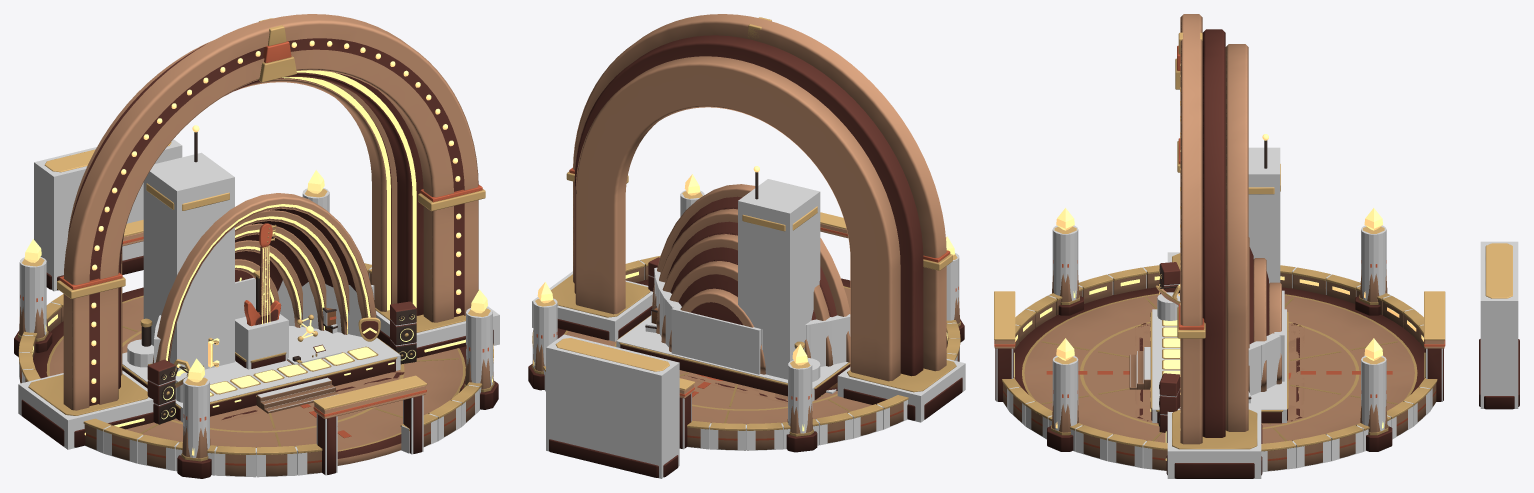
The model's file is landmarks-experience.glb.
The picture shows the model from 3 angles, left to right: view 1: azimuth 30°, elevation 25°; view 2: azimuth 150°, elevation 25°; view 3: azimuth 270°, elevation 25°; orthographic projection. The views are drawn at different scales.
Parts seen in each view (by area): view 1: arc_gate, arena, bass_stage, COL_BOX_tower, COL_BOX_scoreboard, COL_BOX_platform, COL_BOX_foot_0, workshop, COL_BOX_bass_stand, COL_CYL_pillar_1, COL_CYL_pillar_2, COL_CYL_pillar_3 (+6 smaller); view 2: arc_gate, arena, bass_stage, COL_BOX_scoreboard, COL_BOX_tower, COL_BOX_shell_back, COL_BOX_foot_0, COL_BOX_foot_1, COL_BOX_platform, COL_CYL_pillar_1, workshop, COL_CYL_pillar_0 (+3 smaller); view 3: arena, arc_gate, bass_stage, COL_BOX_scoreboard, COL_BOX_tower, COL_BOX_platform, COL_BOX_foot_1, workshop, COL_CYL_pillar_2, COL_CYL_pillar_3, COL_CYL_pillar_1, COL_CYL_pillar_0 (+2 smaller).
Boxes of the visible parts, box(x1,y1,x2,y2) form: arc_gate: box(21, 14, 493, 447); arena: box(14, 142, 498, 478); bass_stage: box(122, 193, 416, 424); COL_BOX_tower: box(143, 152, 234, 371); COL_BOX_scoreboard: box(34, 139, 182, 291); COL_BOX_platform: box(122, 326, 400, 422); COL_BOX_foot_0: box(18, 370, 153, 449); workshop: box(140, 125, 404, 421); COL_BOX_bass_stand: box(235, 314, 288, 369); COL_CYL_pillar_1: box(19, 257, 46, 334); COL_CYL_pillar_2: box(183, 376, 209, 457); COL_CYL_pillar_3: box(466, 307, 492, 385); arc_gate: box(551, 14, 962, 420); arena: box(528, 174, 964, 477); bass_stage: box(617, 184, 850, 399); COL_BOX_scoreboard: box(546, 334, 679, 478); COL_BOX_tower: box(738, 179, 820, 379); COL_BOX_shell_back: box(671, 305, 761, 374); COL_BOX_foot_0: box(837, 359, 965, 422); COL_BOX_foot_1: box(532, 271, 652, 341); COL_BOX_platform: box(616, 316, 848, 401); COL_CYL_pillar_1: box(788, 360, 812, 433); workshop: box(645, 166, 817, 403); COL_CYL_pillar_0: box(533, 298, 557, 368); arena: box(994, 208, 1519, 470); arc_gate: box(1165, 14, 1262, 478); bass_stage: box(1129, 237, 1288, 432); COL_BOX_scoreboard: box(1480, 241, 1518, 408); COL_BOX_tower: box(1248, 147, 1280, 283); COL_BOX_platform: box(1152, 309, 1286, 422); COL_BOX_foot_1: box(1167, 408, 1261, 478); workshop: box(1135, 134, 1304, 421); COL_CYL_pillar_2: box(1052, 225, 1078, 300); COL_CYL_pillar_3: box(1052, 355, 1078, 430); COL_CYL_pillar_1: box(1361, 225, 1386, 300); COL_CYL_pillar_0: box(1361, 355, 1386, 430).
Size of the model in its own units: 27.7 by 22.4 by 30.82.
